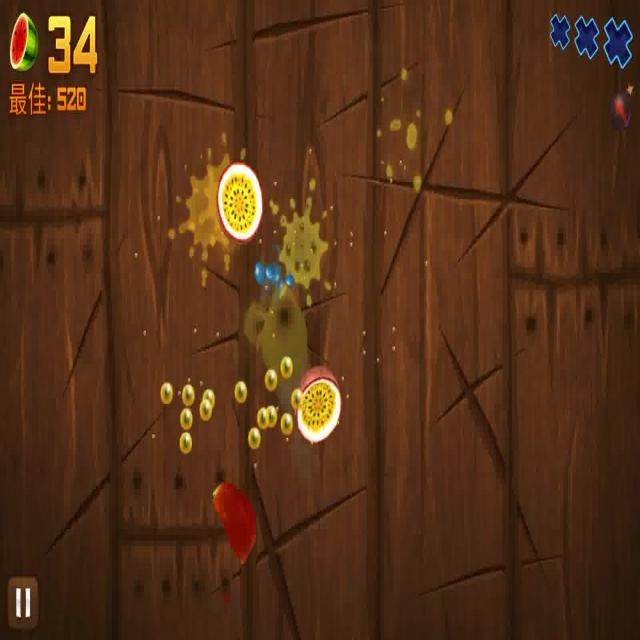fruit: (209, 472, 260, 566), (293, 366, 345, 440), (217, 163, 263, 235)
